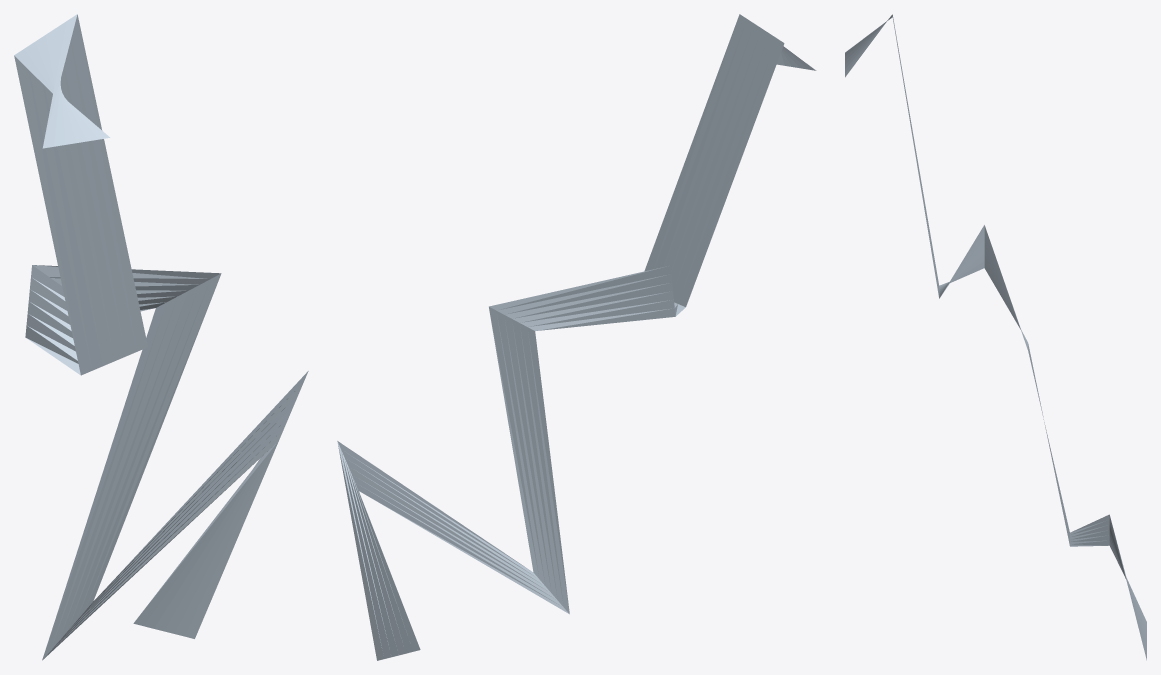
File: 2059_ElectroSurround_SurroundArc1.fbx
3 views of the same model, side by side, from view 1: azimuth 30°, elevation 25°; view 2: azimuth 150°, elevation 25°; view 3: azimuth 270°, elevation 25° (orthographic). The views are drawn at different scales.
Parts seen in each view (by area): view 1: PART_SurroundArc1; view 2: PART_SurroundArc1; view 3: PART_SurroundArc1.
Boxes of the visible parts, x1,y1,x2,y2 form: PART_SurroundArc1: (14, 14, 308, 660); PART_SurroundArc1: (337, 14, 816, 660); PART_SurroundArc1: (845, 14, 1146, 660).
Size of the model in its own units: 30.46 by 52.23 by 26.23.
